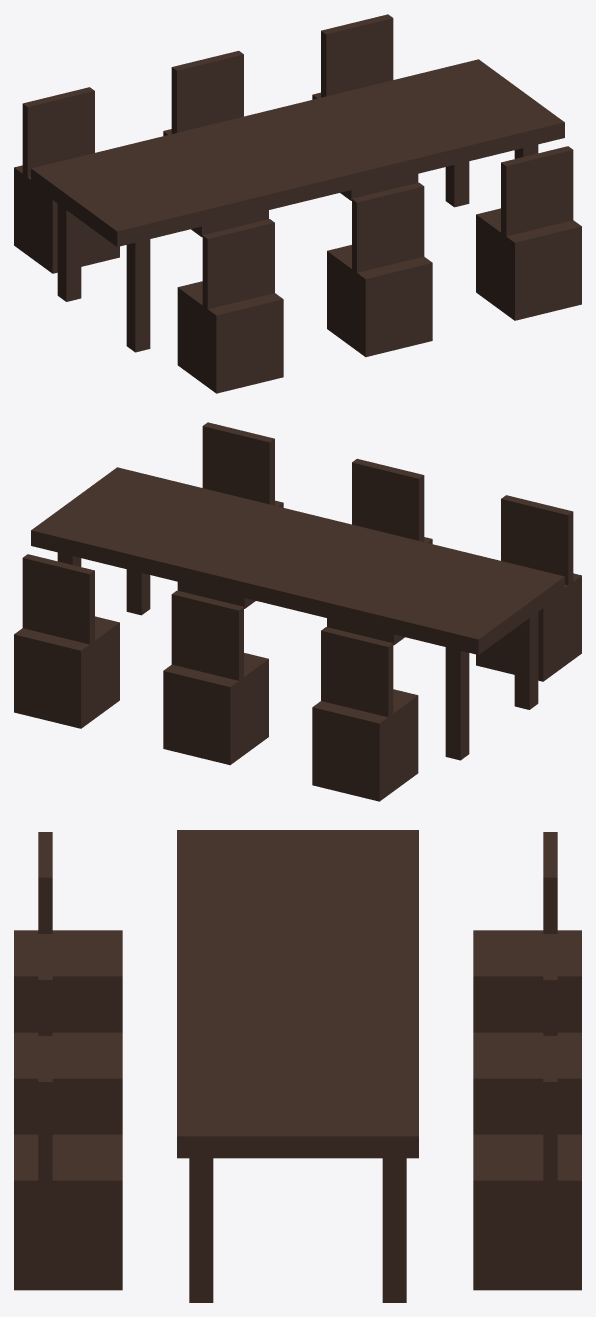
Rendered from mesa_medieval.glb.
3 renders of one model, top to bottom at view 1: azimuth 30°, elevation 25°; view 2: azimuth 150°, elevation 25°; view 3: azimuth 270°, elevation 25°, orthographic. The views are drawn at different scales.
Parts seen in each view (by area): view 1: Malha_0; view 2: Malha_0; view 3: Malha_0.
Boxes of the visible parts, x1,y1,x2,y2 form: Malha_0: (14,14,581,393); Malha_0: (14,422,581,801); Malha_0: (14,830,581,1302).
Size of the model in its own units: 3 by 0.95 by 2.35.
